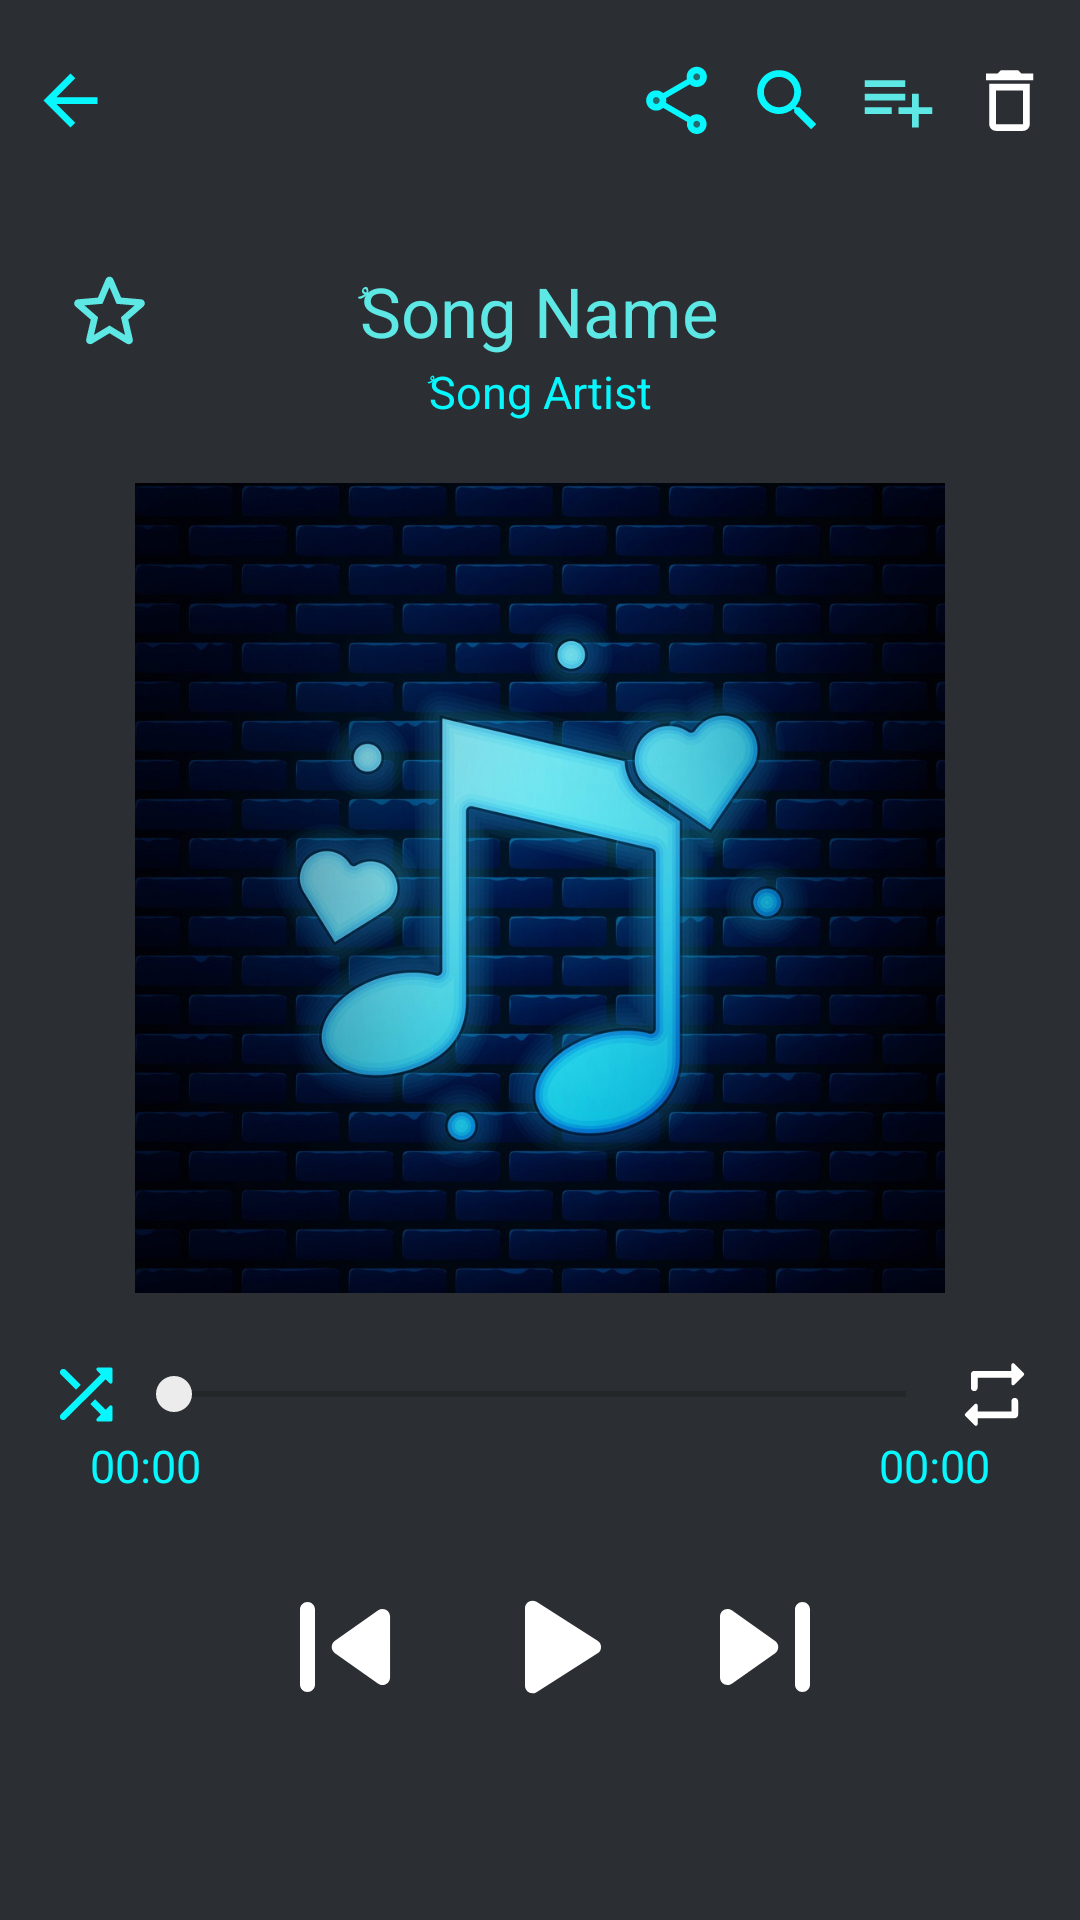

Point at icon controls on the screen. Image size 1080px×1920px, points as (x,y).
arrow back: (70,100)
delete: (1010,100)
play arrow: (563,1647)
playlist add: (898,104)
repeat: (994,1394)
search: (786,99)
share: (676,100)
shuffle: (86,1394)
skip next: (765,1647)
skip previous: (345,1647)
star border: (109,310)
